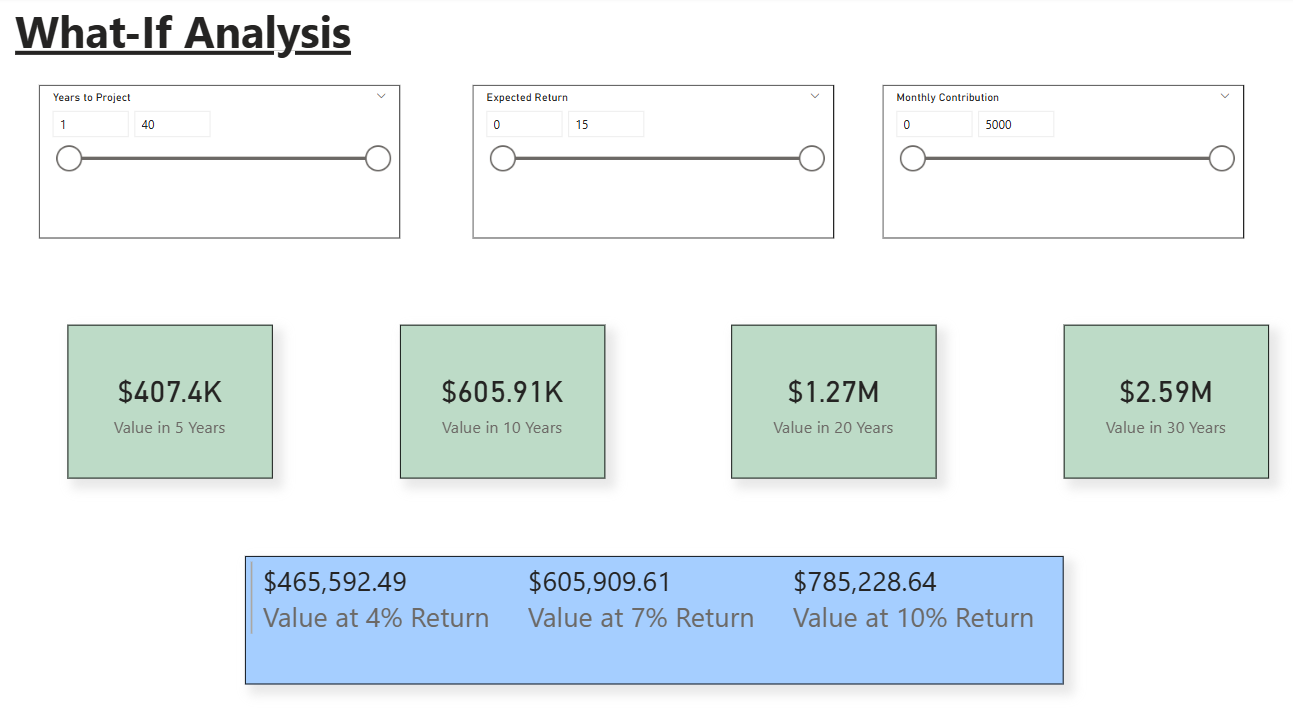

This screenshot's page, from the dashboard's own definition file:
{"tool":"powerbi","page":{"name":"What-If Analysis","canvas":[1280,720],"ordinal":6},"visuals":[{"type":"textbox","box":[9.8,0,353.4,74.6],"z":0},{"type":"slicer","fields":{"Values":["Years to Project.Years to Project"]},"box":[37.9,86.8,353.4,150.4],"z":1},{"type":"slicer","fields":{"Values":["Expected Return.Expected Return"]},"box":[462.2,86.8,353.4,150.4],"z":2},{"type":"slicer","fields":{"Values":["Monthly Contribution.Monthly Contribution"]},"box":[863.3,86.8,353.4,150.4],"z":3},{"type":"card","fields":{"Values":["v_portfolio_current.Value in 30 Years"]},"box":[1040.6,321.9,200.5,150.4],"z":5},{"type":"card","fields":{"Values":["v_portfolio_current.Value in 10 Years"]},"box":[390.9,321.9,200.5,150.4],"z":6},{"type":"card","fields":{"Values":["v_portfolio_current.Value in 5 Years"]},"box":[66,321.9,200.5,150.4],"z":7},{"type":"card","fields":{"Values":["v_portfolio_current.Value in 20 Years"]},"box":[715.8,321.9,200.5,150.4],"z":8},{"type":"multiRowCard","fields":{"Values":["_Measures.Value at 4% Return","_Measures.Value at 7% Return","_Measures.Value at 10% Return"]},"box":[239.7,547.8,801,126],"z":9}]}

Visuals, with their boxes in screenshot pixels (x1, y1, x2, y2), scaled from the page's 1280x720 canvas onto the 1293x726 screenshot:
textbox: rect(10, 0, 367, 75)
slicer - Years to Project.Years to Project: rect(38, 88, 395, 239)
slicer - Expected Return.Expected Return: rect(467, 88, 824, 239)
slicer - Monthly Contribution.Monthly Contribution: rect(872, 88, 1229, 239)
card - v_portfolio_current.Value in 30 Years: rect(1051, 325, 1254, 476)
card - v_portfolio_current.Value in 10 Years: rect(395, 325, 597, 476)
card - v_portfolio_current.Value in 5 Years: rect(67, 325, 269, 476)
card - v_portfolio_current.Value in 20 Years: rect(723, 325, 926, 476)
multiRowCard - _Measures.Value at 4% Return x _Measures.Value at 7% Return: rect(242, 552, 1051, 679)
